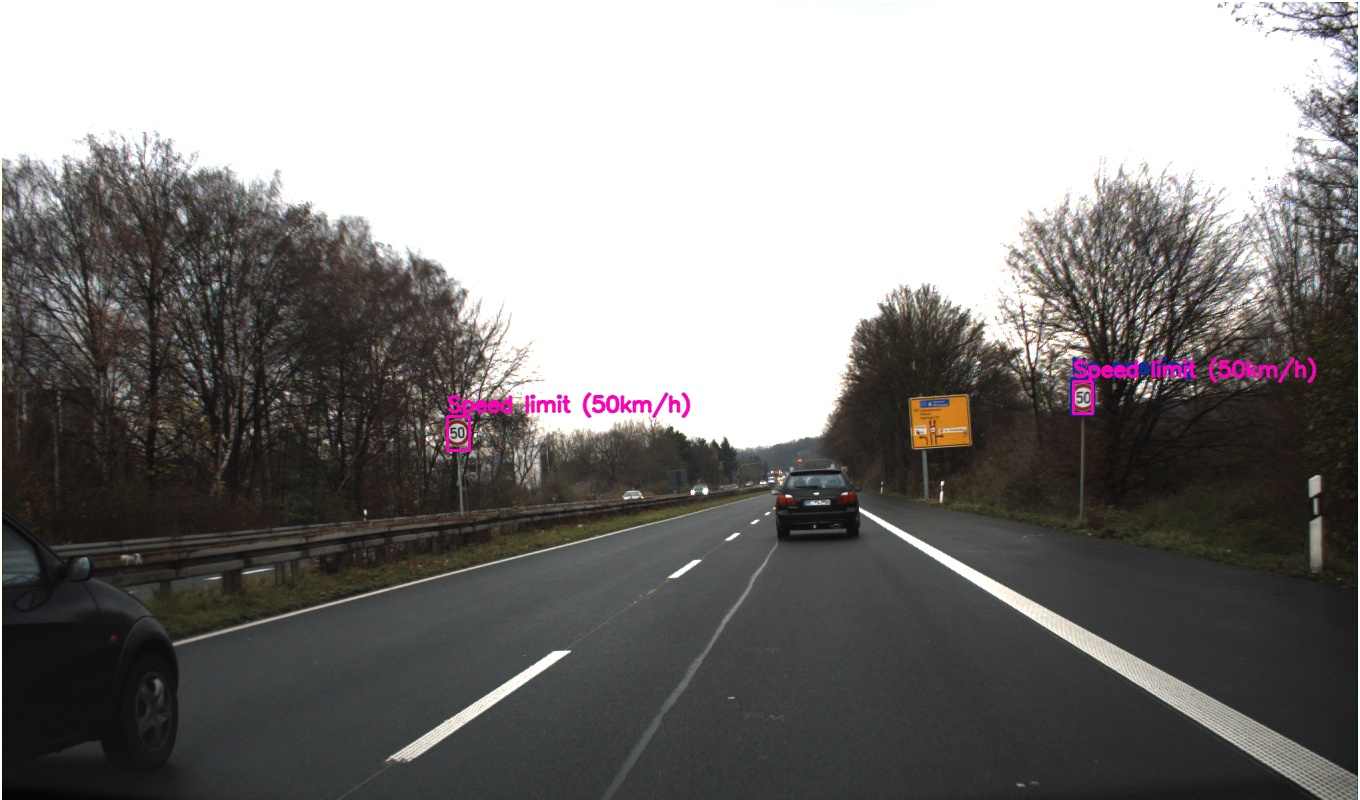General caution: (842, 400, 881, 435)
Speed limit (30km/h): (849, 443, 877, 471)
